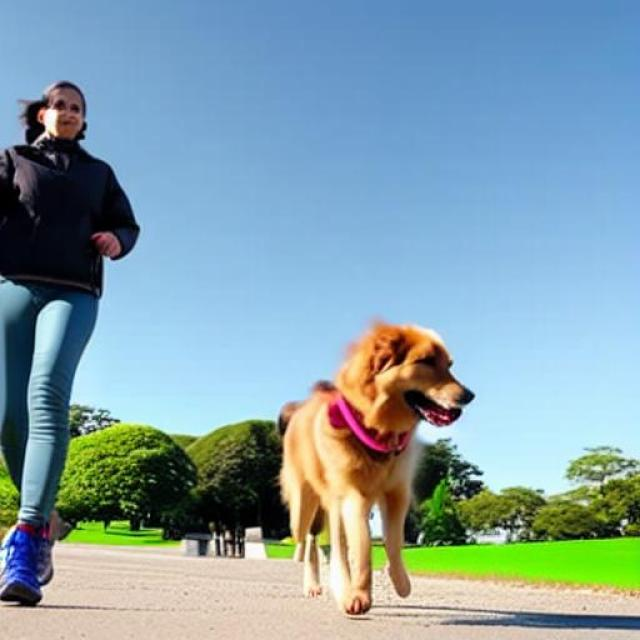Unleashed_Dog: (2, 254, 477, 616)
